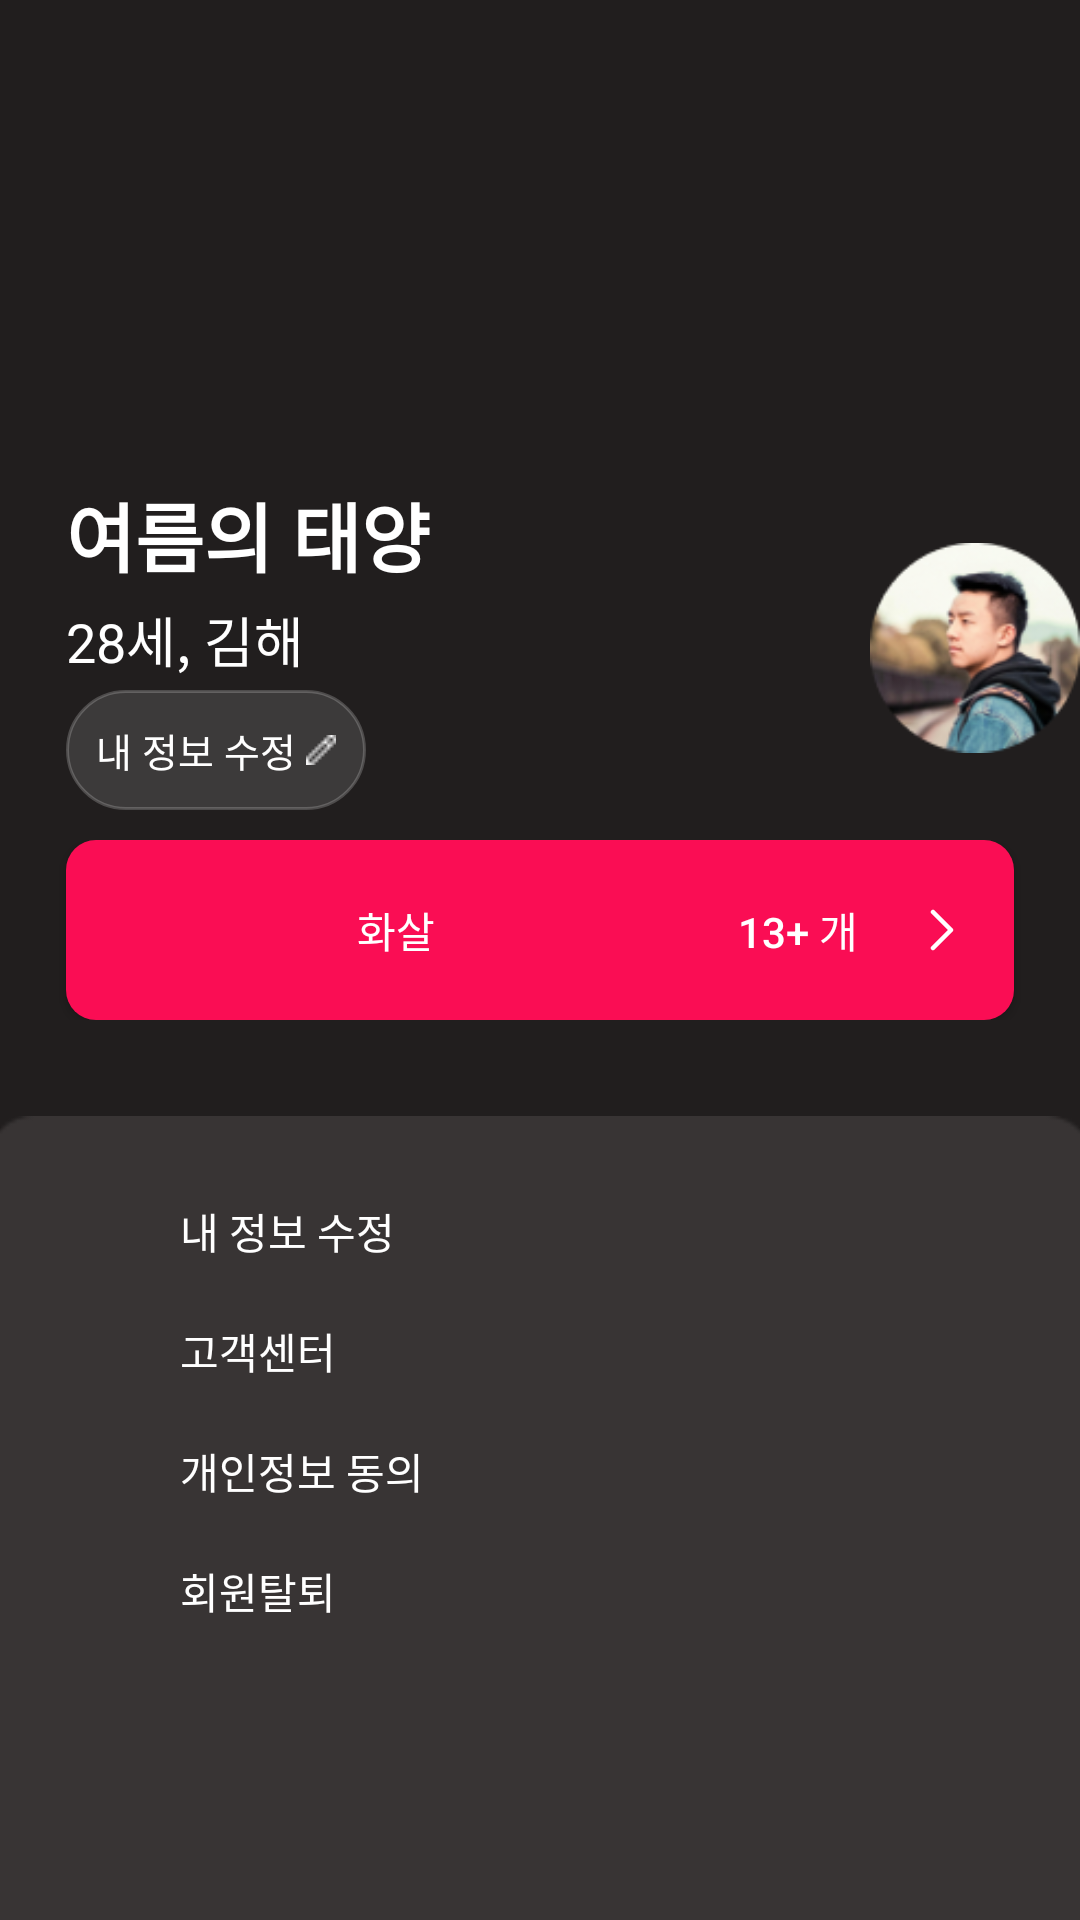

Icon click points for this 1080*1920 phone screenshot, format (x,y):
manprofile: (975,648)
